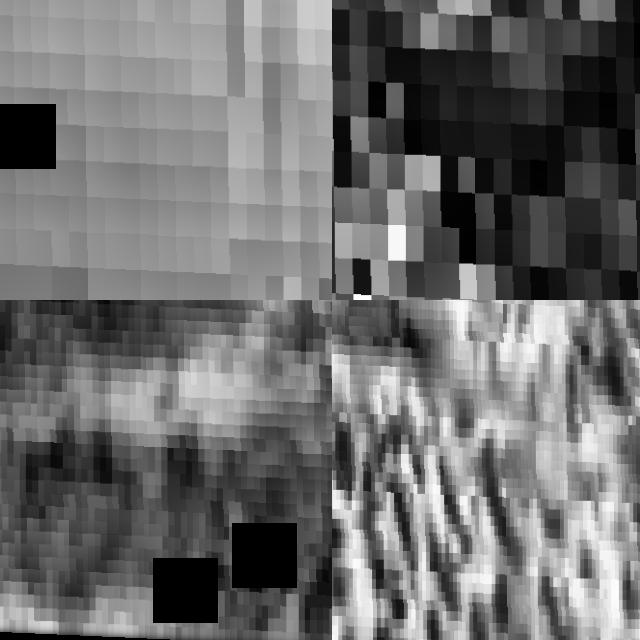crab: (332, 0, 640, 300)
fish: (0, 300, 332, 640), (332, 300, 640, 640), (0, 0, 332, 300)
